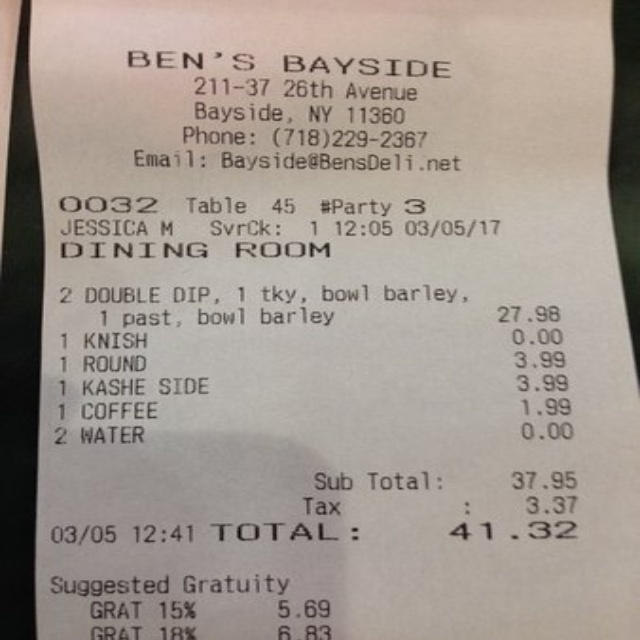invoice_table: (55, 285, 576, 444)
invoice_title: (121, 48, 462, 174)
invoice_total: (211, 521, 578, 544)
